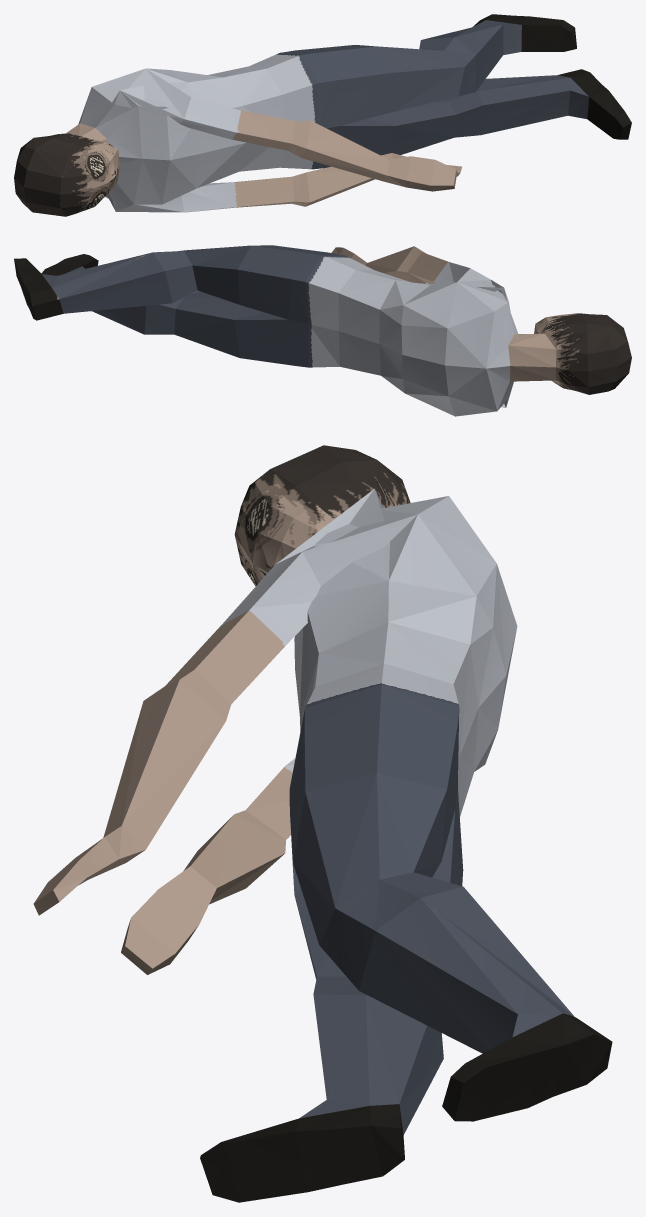
Rendered from AntagonsitPose3.fbx.
3 views of the same model, one above another, from view 1: azimuth 30°, elevation 25°; view 2: azimuth 150°, elevation 25°; view 3: azimuth 270°, elevation 25° (orthographic). The views are drawn at different scales.
Parts seen in each view (by area): view 1: Characters_01.001; view 2: Characters_01.001; view 3: Characters_01.001.
Part boxes in pixels (bbox=[...]): Characters_01.001: bbox=[14, 14, 631, 216]; Characters_01.001: bbox=[14, 245, 631, 416]; Characters_01.001: bbox=[33, 445, 612, 1202].
Bounding box in the file's own units: 243 × 55.35 × 105.
